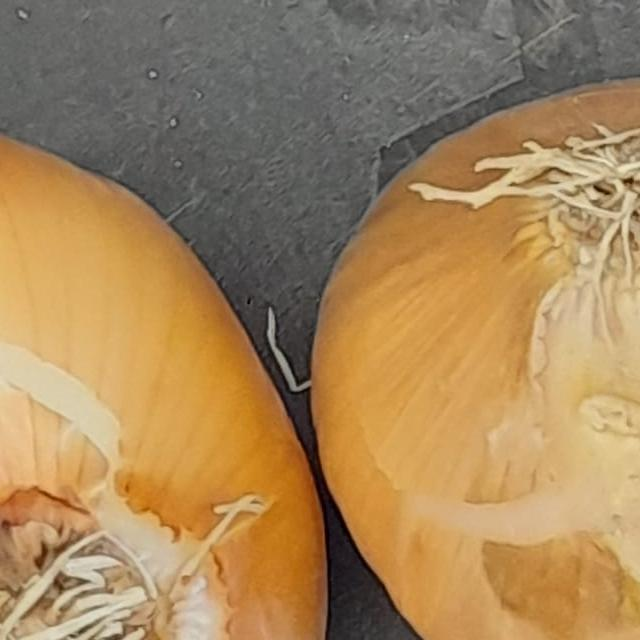onion: (266, 0, 640, 640), (0, 86, 330, 640)
